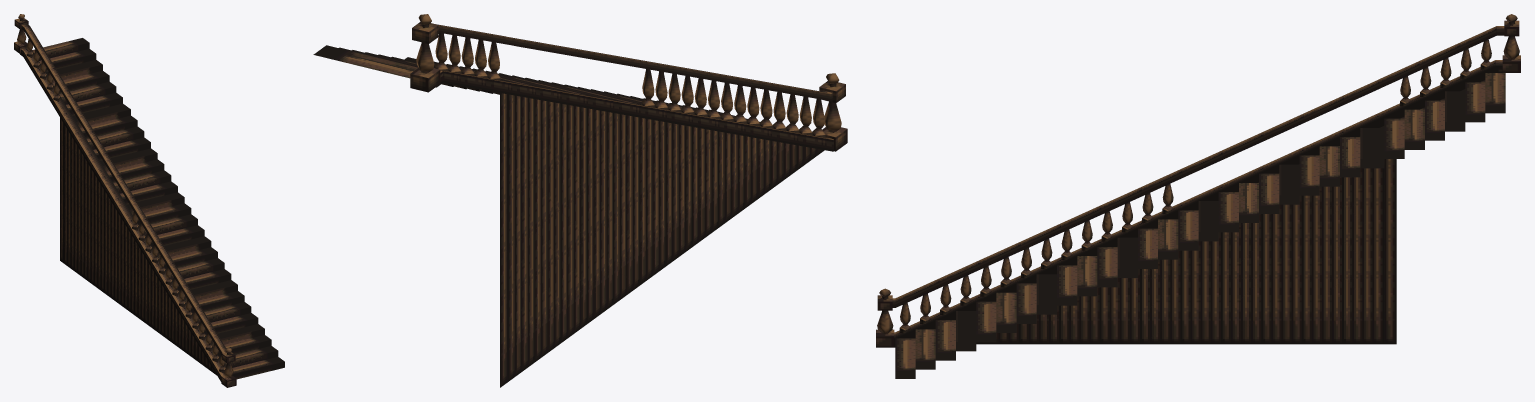
The model's file is EnvBdgMD_Wilderness_A_Indoor_A_Stairs.FBX.
3 views of the same model, side by side, from view 1: azimuth 30°, elevation 25°; view 2: azimuth 150°, elevation 25°; view 3: azimuth 270°, elevation 25° (orthographic). The views are drawn at different scales.
Visible parts, largest first — view 1: EnvBdgMD_Wilderness_A_Indoor_A_Stairs; view 2: EnvBdgMD_Wilderness_A_Indoor_A_Stairs; view 3: EnvBdgMD_Wilderness_A_Indoor_A_Stairs.
Part boxes in pixels (x1=…): EnvBdgMD_Wilderness_A_Indoor_A_Stairs: x1=14, y1=14, x2=284, y2=387; EnvBdgMD_Wilderness_A_Indoor_A_Stairs: x1=313, y1=14, x2=847, y2=387; EnvBdgMD_Wilderness_A_Indoor_A_Stairs: x1=876, y1=14, x2=1520, y2=378.
Size of the model in its own units: 276 by 900 by 1595.
Materials: 1 (1 with a texture image).
